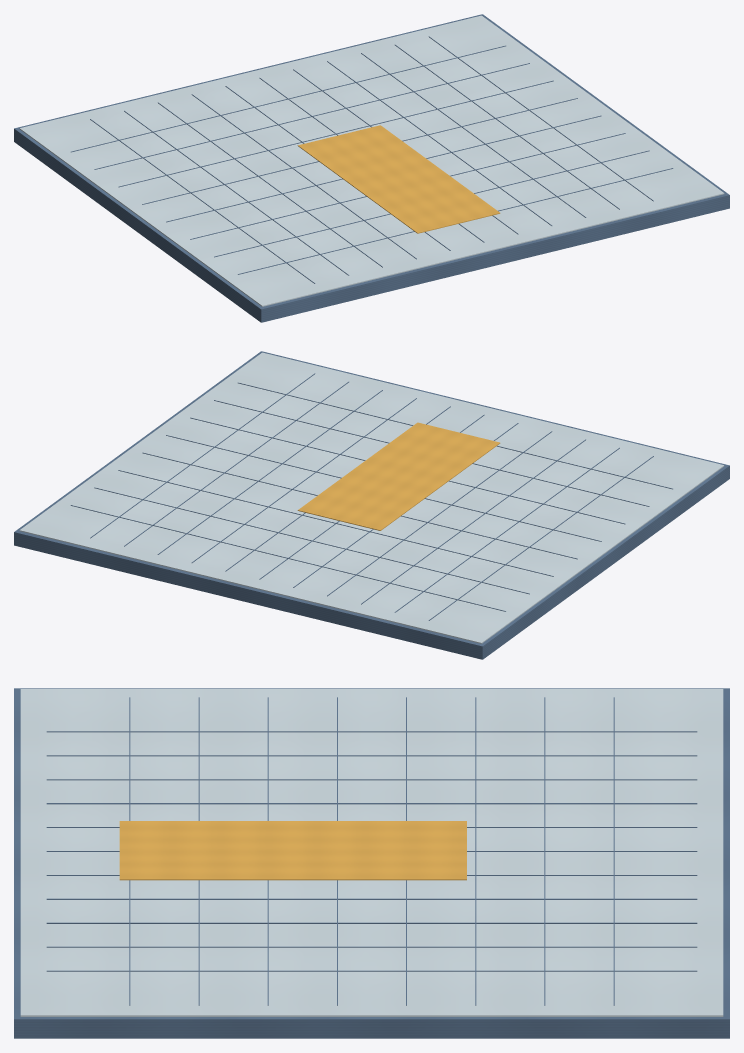
The model's file is atlas100-s055-a07.glb.
3 views of the same model, one above another, from view 1: azimuth 30°, elevation 25°; view 2: azimuth 150°, elevation 25°; view 3: azimuth 270°, elevation 25° (orthographic). The views are drawn at different scales.
Visible parts, largest first — view 1: atlas100-s055-a07:part-001, atlas100-s055-a07:part-000, atlas100-s055-a07:part-021, atlas100-s055-a07:part-015, atlas100-s055-a07:part-014, atlas100-s055-a07:part-013, atlas100-s055-a07:part-017, atlas100-s055-a07:part-016, atlas100-s055-a07:part-019, atlas100-s055-a07:part-018, atlas100-s055-a07:part-020; view 2: atlas100-s055-a07:part-001, atlas100-s055-a07:part-000, atlas100-s055-a07:part-021, atlas100-s055-a07:part-013, atlas100-s055-a07:part-015, atlas100-s055-a07:part-014, atlas100-s055-a07:part-016, atlas100-s055-a07:part-017, atlas100-s055-a07:part-019, atlas100-s055-a07:part-018, atlas100-s055-a07:part-020; view 3: atlas100-s055-a07:part-001, atlas100-s055-a07:part-000, atlas100-s055-a07:part-021, atlas100-s055-a07:part-009, atlas100-s055-a07:part-011, atlas100-s055-a07:part-012, atlas100-s055-a07:part-004, atlas100-s055-a07:part-005, atlas100-s055-a07:part-002, atlas100-s055-a07:part-003, atlas100-s055-a07:part-010, atlas100-s055-a07:part-015 (+2 smaller).
Boxes of the visible parts, x1=… form: atlas100-s055-a07:part-001: x1=19, y1=15, x2=724, y2=306; atlas100-s055-a07:part-000: x1=14, y1=14, x2=729, y2=322; atlas100-s055-a07:part-021: x1=297, y1=125, x2=500, y2=233; atlas100-s055-a07:part-015: x1=118, y1=80, x2=553, y2=187; atlas100-s055-a07:part-014: x1=94, y1=63, x2=529, y2=169; atlas100-s055-a07:part-013: x1=71, y1=45, x2=505, y2=152; atlas100-s055-a07:part-017: x1=166, y1=115, x2=601, y2=222; atlas100-s055-a07:part-016: x1=142, y1=98, x2=577, y2=204; atlas100-s055-a07:part-019: x1=214, y1=150, x2=649, y2=257; atlas100-s055-a07:part-018: x1=190, y1=133, x2=625, y2=239; atlas100-s055-a07:part-020: x1=238, y1=168, x2=673, y2=274; atlas100-s055-a07:part-001: x1=19, y1=352, x2=724, y2=643; atlas100-s055-a07:part-000: x1=14, y1=351, x2=729, y2=659; atlas100-s055-a07:part-021: x1=297, y1=422, x2=500, y2=530; atlas100-s055-a07:part-013: x1=70, y1=505, x2=505, y2=611; atlas100-s055-a07:part-015: x1=118, y1=470, x2=553, y2=576; atlas100-s055-a07:part-014: x1=94, y1=487, x2=529, y2=594; atlas100-s055-a07:part-016: x1=142, y1=452, x2=577, y2=559; atlas100-s055-a07:part-017: x1=166, y1=435, x2=601, y2=541; atlas100-s055-a07:part-019: x1=214, y1=400, x2=649, y2=506; atlas100-s055-a07:part-018: x1=190, y1=417, x2=625, y2=524; atlas100-s055-a07:part-020: x1=238, y1=382, x2=672, y2=489; atlas100-s055-a07:part-001: x1=20, y1=689, x2=723, y2=1016; atlas100-s055-a07:part-000: x1=14, y1=688, x2=729, y2=1038; atlas100-s055-a07:part-021: x1=119, y1=821, x2=466, y2=880; atlas100-s055-a07:part-009: x1=46, y1=898, x2=697, y2=899; atlas100-s055-a07:part-011: x1=46, y1=946, x2=697, y2=947; atlas100-s055-a07:part-012: x1=46, y1=970, x2=697, y2=971; atlas100-s055-a07:part-004: x1=46, y1=779, x2=697, y2=780; atlas100-s055-a07:part-005: x1=46, y1=803, x2=697, y2=804; atlas100-s055-a07:part-002: x1=46, y1=731, x2=697, y2=732; atlas100-s055-a07:part-003: x1=46, y1=755, x2=697, y2=756; atlas100-s055-a07:part-010: x1=46, y1=922, x2=697, y2=923; atlas100-s055-a07:part-015: x1=475, y1=697, x2=476, y2=1005.
Bounding box in the file's own units: 12.46 × 0.404 × 11.39.
3 materials, 3 textured.
